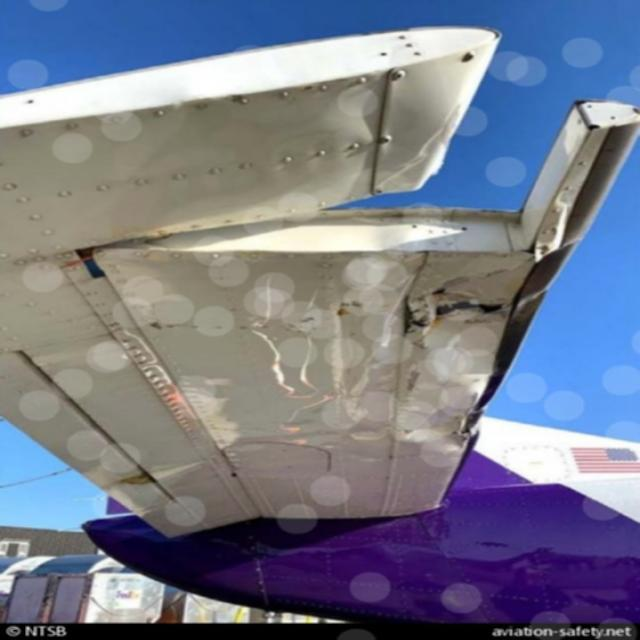dent: (416, 402, 471, 454)
